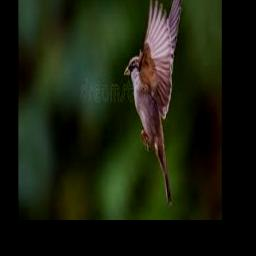Sparrow: (123, 0, 182, 205)
